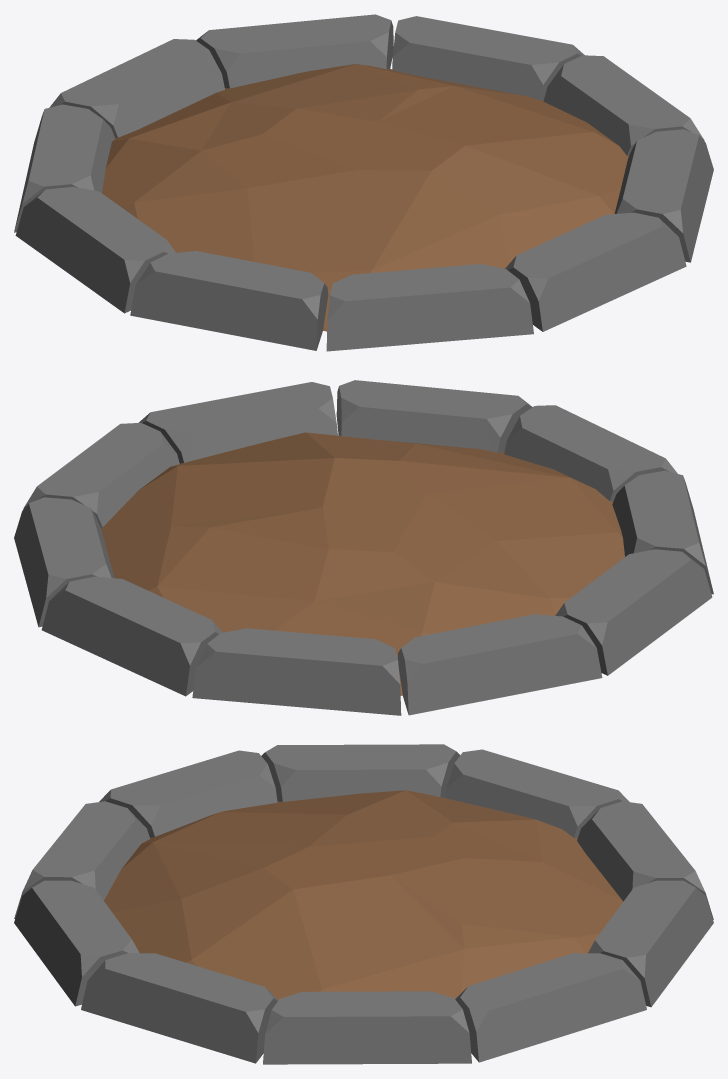
File: Tree_Place Asia.fbx
3 views of the same model, one above another, from view 1: azimuth 30°, elevation 25°; view 2: azimuth 150°, elevation 25°; view 3: azimuth 270°, elevation 25° (orthographic). The views are drawn at different scales.
Parts seen in each view (by area): view 1: Tree_Place; view 2: Tree_Place; view 3: Tree_Place.
Part boxes in pixels (x1=…): Tree_Place: x1=14, y1=14, x2=713, y2=351; Tree_Place: x1=14, y1=380, x2=713, y2=715; Tree_Place: x1=14, y1=744, x2=713, y2=1064.
Size of the model in its own units: 2.13 by 0.2265 by 2.22.
